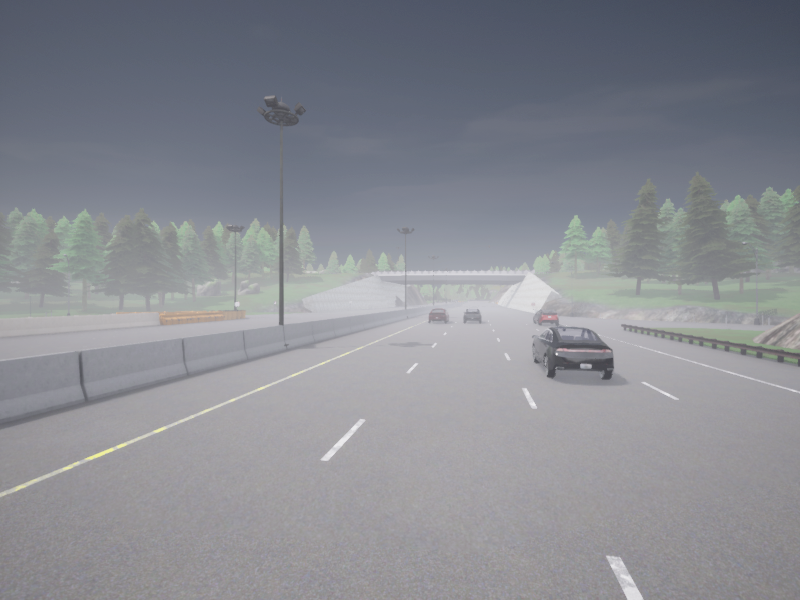vehicle: (532, 327, 613, 379), (533, 309, 558, 325), (428, 308, 448, 322), (463, 309, 482, 322)
